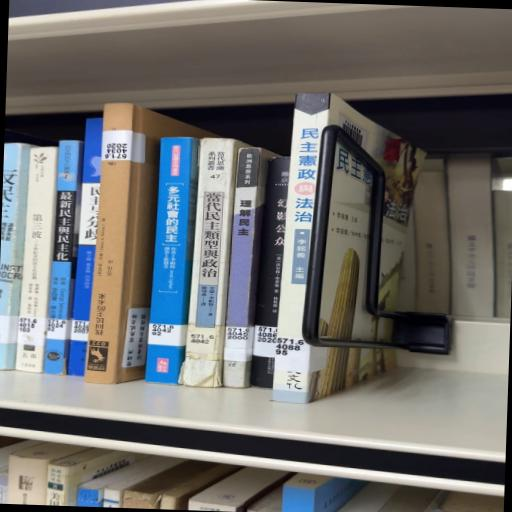reverse: (85, 104, 218, 384)
